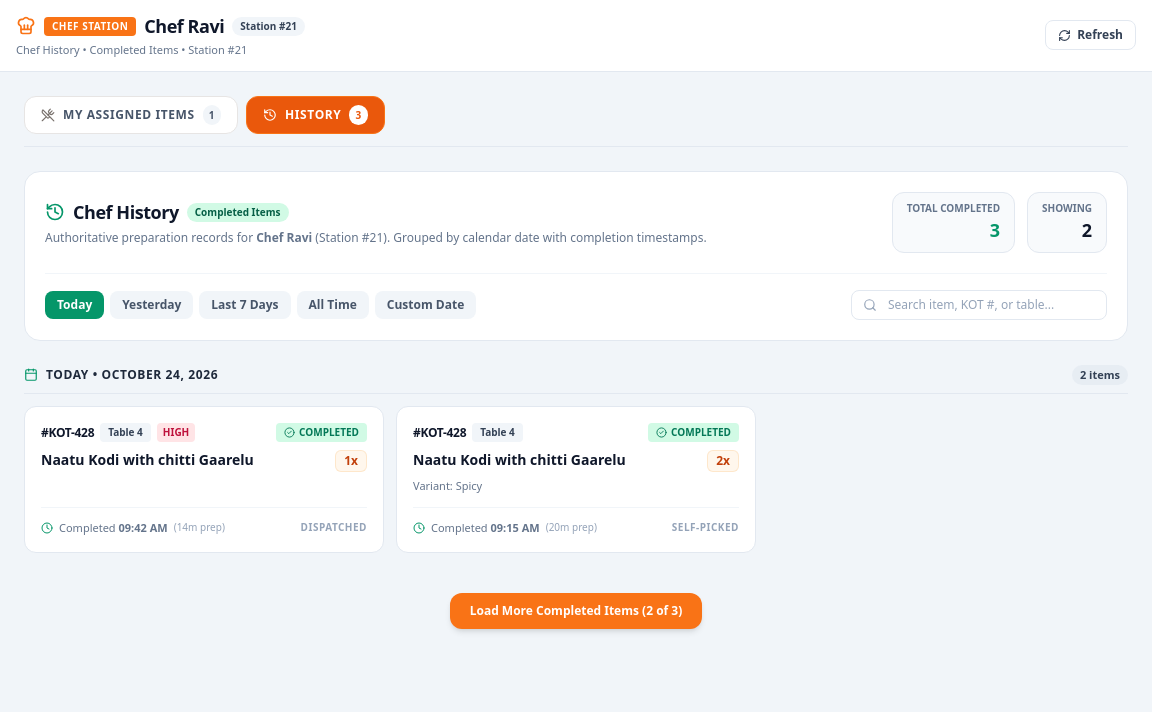
it: Chef Station — Date-Wise History Component Suite › supports pagination loading additional records
Click the button with test id "load-more-btn": (576, 611) left=450, top=593, right=702, bottom=629
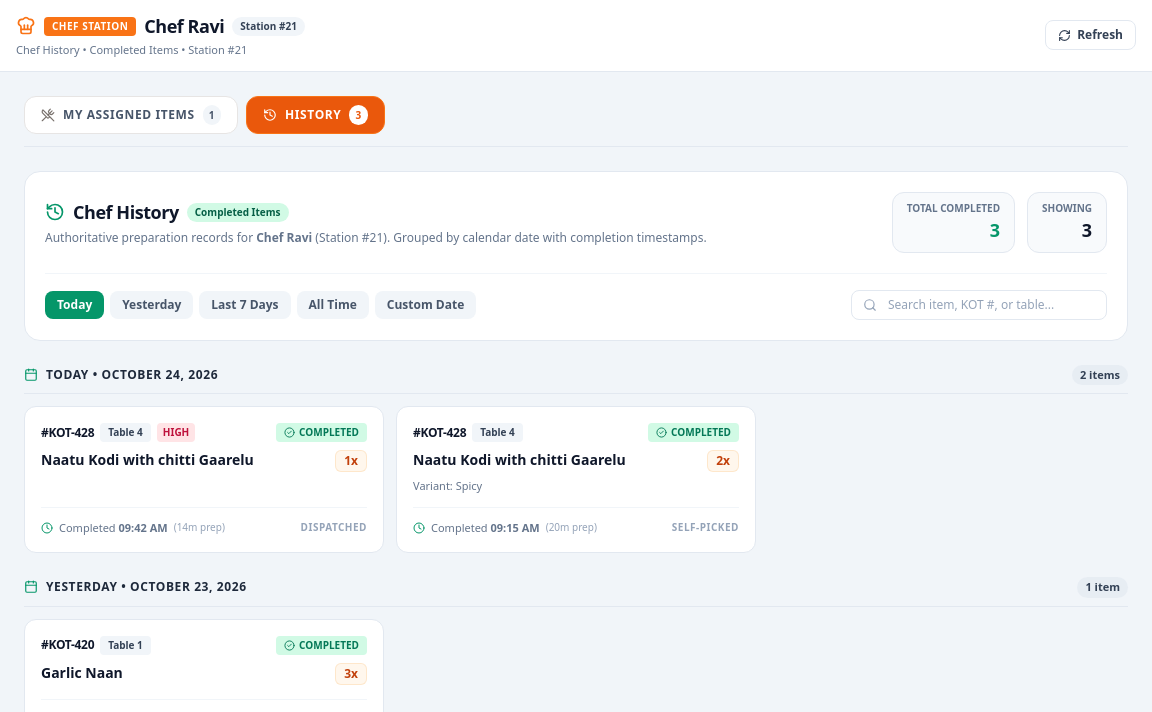
Now the text "Garlic Naan" is shown, box left=41, top=662, right=123, bottom=682
